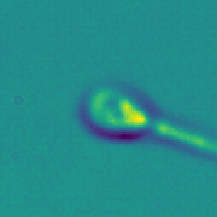normal: (153, 107, 217, 161)
